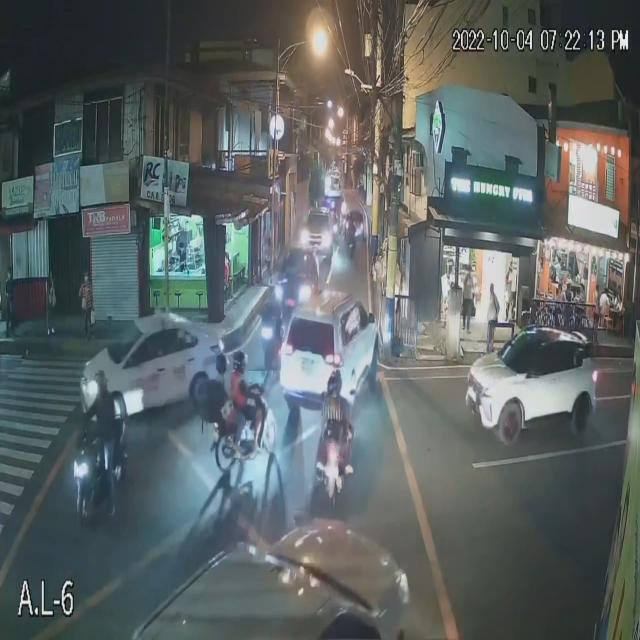Full-Faced: (229, 348, 250, 377), (216, 351, 234, 381), (95, 371, 108, 395), (266, 274, 278, 294)
